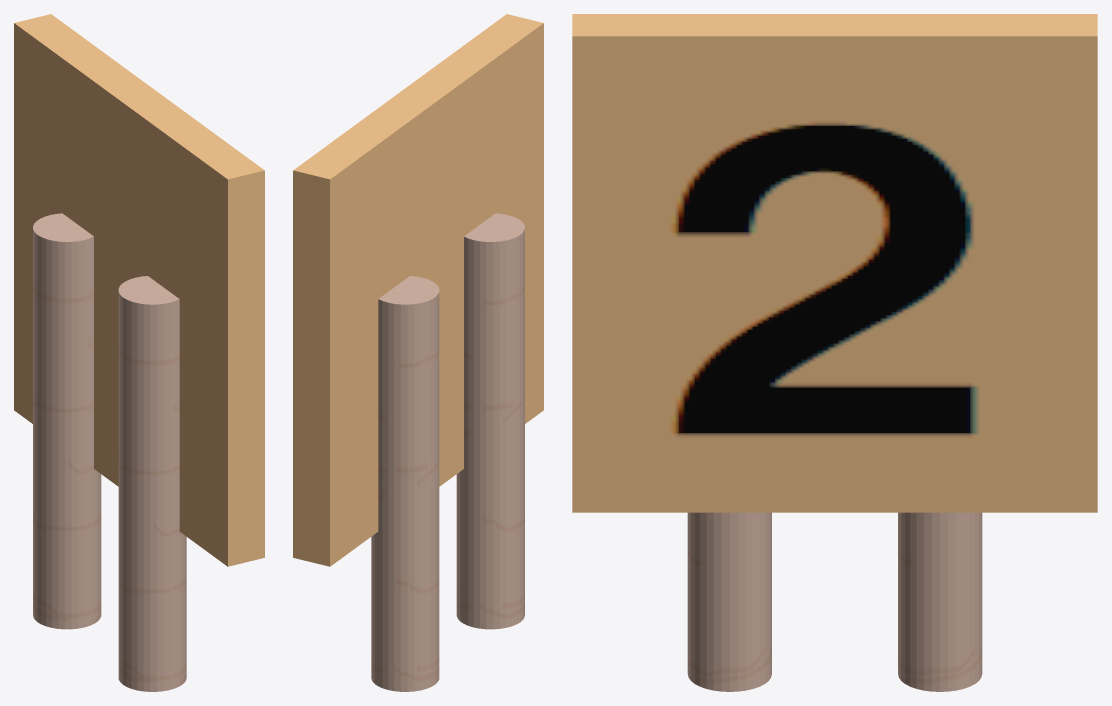
File: Signboard2.gltf
3 views of the same model, side by side, from view 1: azimuth 30°, elevation 25°; view 2: azimuth 150°, elevation 25°; view 3: azimuth 270°, elevation 25° (orthographic). The views are drawn at different scales.
Parts seen in each view (by area): view 1: Cube, Cylinder.001, Cylinder; view 2: Cube, Cylinder, Cylinder.001; view 3: Cube, Cylinder, Cylinder.001.
Boxes of the visible parts, <box> form: Cube: <box>14,14,264,566</box>; Cylinder.001: <box>118,276,186,691</box>; Cylinder: <box>33,213,101,629</box>; Cube: <box>293,14,543,566</box>; Cylinder: <box>371,276,439,691</box>; Cylinder.001: <box>456,213,524,629</box>; Cube: <box>572,14,1097,512</box>; Cylinder: <box>898,512,982,691</box>; Cylinder.001: <box>687,512,771,691</box>.
Size of the model in its own units: 0.21 by 1.4 by 1.
2 materials, 2 textured.
